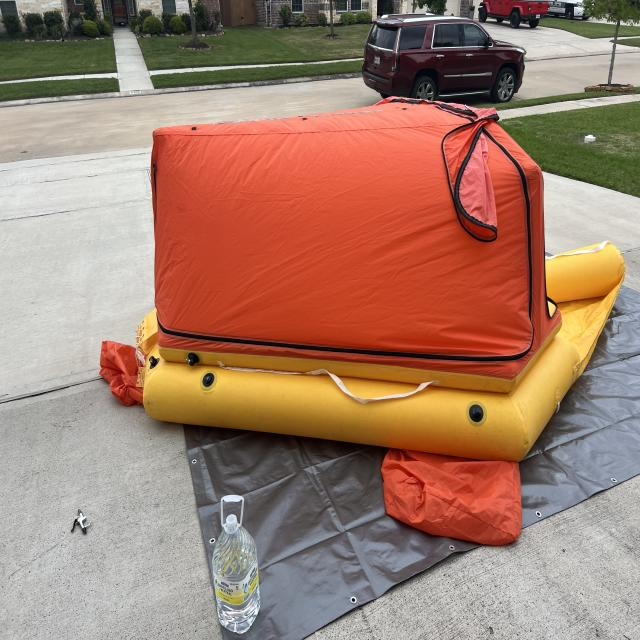Multi-person_life_raft: (98, 94, 625, 546)
